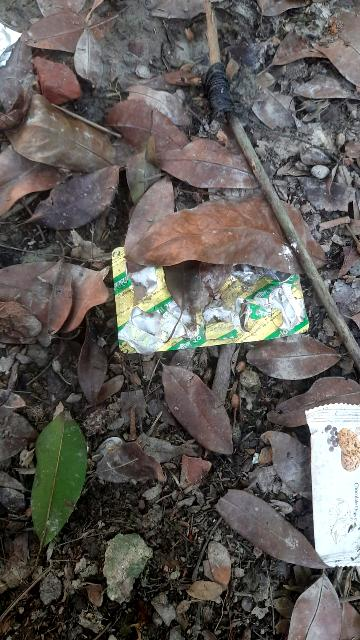medicine: (88, 233, 317, 364)
